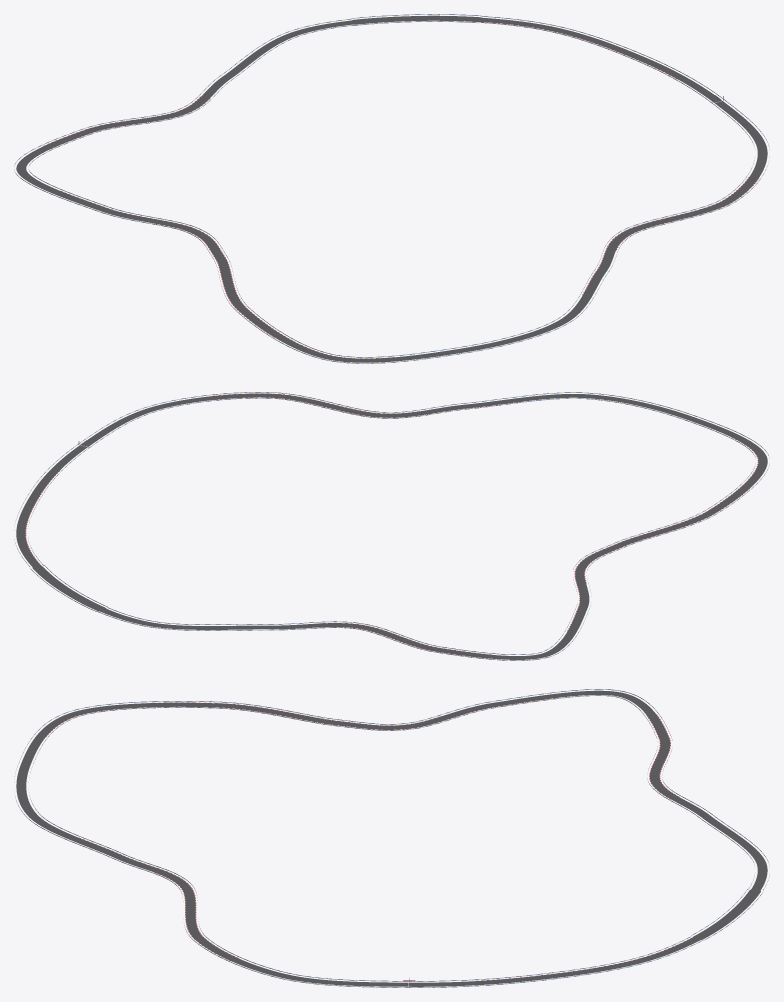
The model's file is track.glb.
The picture shows the model from 3 angles, top to bottom: view 1: azimuth 30°, elevation 25°; view 2: azimuth 150°, elevation 25°; view 3: azimuth 270°, elevation 25°; orthographic projection. The views are drawn at different scales.
Parts seen in each view (by area): view 1: asphalt, barrier_R, barrier_L, curbs; view 2: asphalt, barrier_R, barrier_L, curbs; view 3: asphalt, barrier_R, barrier_L, curbs.
Part boxes in pixels (bbox=[...]): asphalt: bbox=[16, 15, 767, 362]; barrier_R: bbox=[14, 14, 769, 363]; barrier_L: bbox=[28, 21, 755, 357]; curbs: bbox=[43, 22, 758, 358]; asphalt: bbox=[16, 393, 767, 659]; barrier_R: bbox=[14, 392, 769, 660]; barrier_L: bbox=[28, 398, 755, 654]; curbs: bbox=[25, 393, 758, 658]; asphalt: bbox=[16, 690, 767, 986]; barrier_R: bbox=[14, 689, 769, 987]; barrier_L: bbox=[28, 695, 755, 981]; curbs: bbox=[46, 698, 691, 981].
Size of what is drawn, in the model's own units: 1007 by 7 by 1079.
